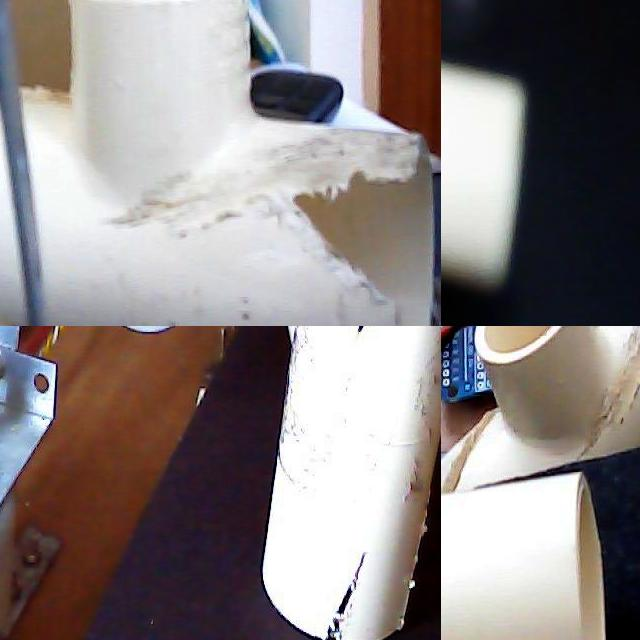Defective: (126, 131, 434, 326), (315, 477, 370, 640), (24, 88, 90, 132)
T Joint: (0, 0, 436, 326), (266, 326, 441, 640), (441, 474, 607, 640), (441, 61, 528, 299)
